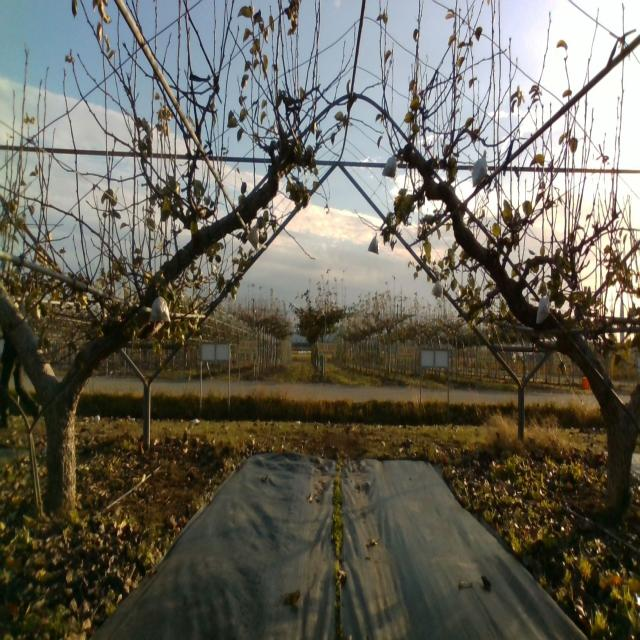pearbags: (149, 287, 171, 322), (471, 151, 488, 186), (536, 288, 551, 325), (247, 222, 262, 251), (381, 156, 398, 178), (431, 275, 443, 300), (368, 233, 379, 254)
